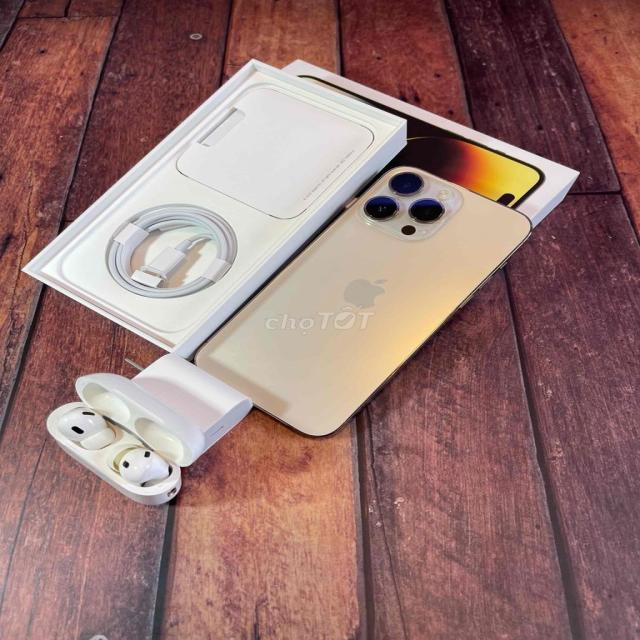gen_14: (198, 149, 532, 441)
